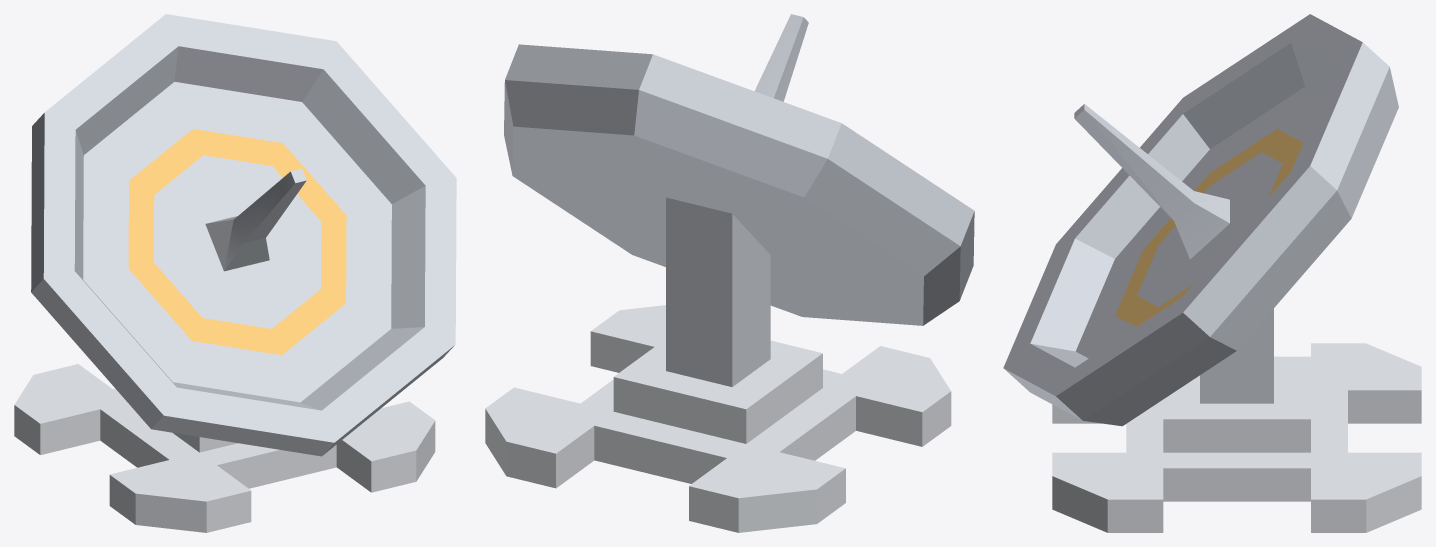
The model's file is satellite.fbx.
3 renders of one model, left to right at view 1: azimuth 30°, elevation 25°; view 2: azimuth 150°, elevation 25°; view 3: azimuth 270°, elevation 25°, orthographic. The views are drawn at different scales.
Parts seen in each view (by area): view 1: satelliteDish-dish, satelliteDish-base; view 2: satelliteDish-dish, satelliteDish-base; view 3: satelliteDish-dish, satelliteDish-base.
Boxes of the visible parts, x1,y1,x2,y2 form: satelliteDish-dish: [31, 14, 456, 456]; satelliteDish-base: [14, 364, 435, 532]; satelliteDish-dish: [504, 14, 974, 386]; satelliteDish-base: [485, 305, 951, 532]; satelliteDish-dish: [1003, 14, 1398, 426]; satelliteDish-base: [1052, 343, 1421, 532].
Bounding box in the file's own units: 68.84 × 61.65 × 56.65.
